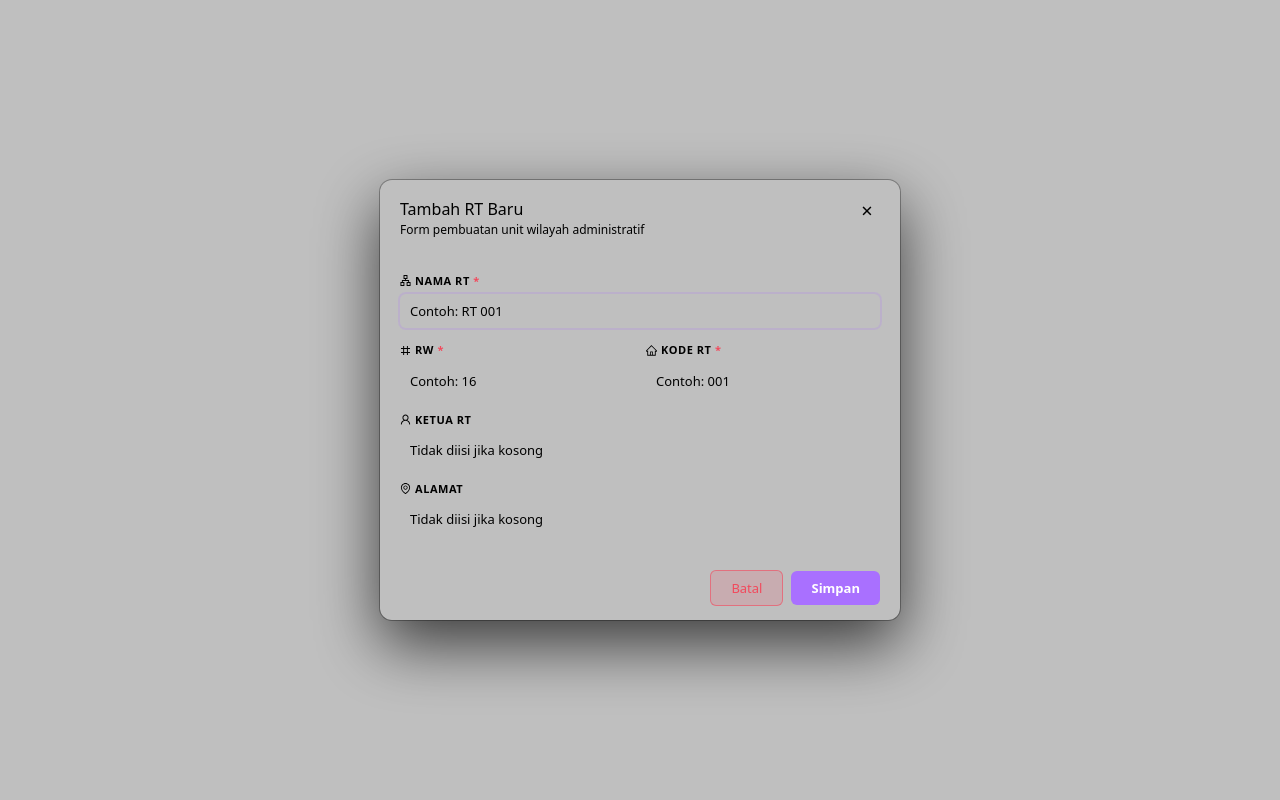
it: W3.3 — RtCreate form rendering › shows error message from API on 409 conflict
Type "RT 001" into the field labelled "Nama RT *". click: (640, 311)
box: [400,294,880,328]
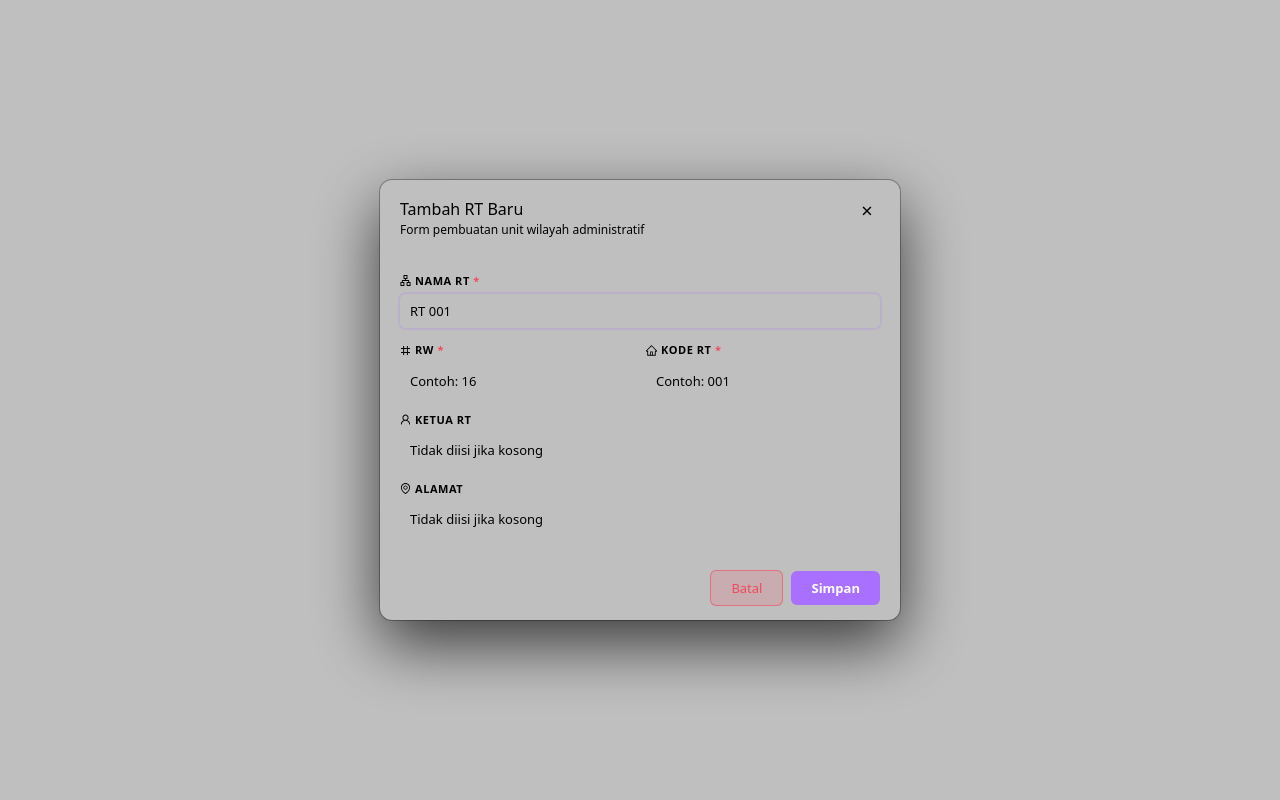
Type "1" into the number field labelled "RW *". click: (517, 381)
box: [400,364,634,398]
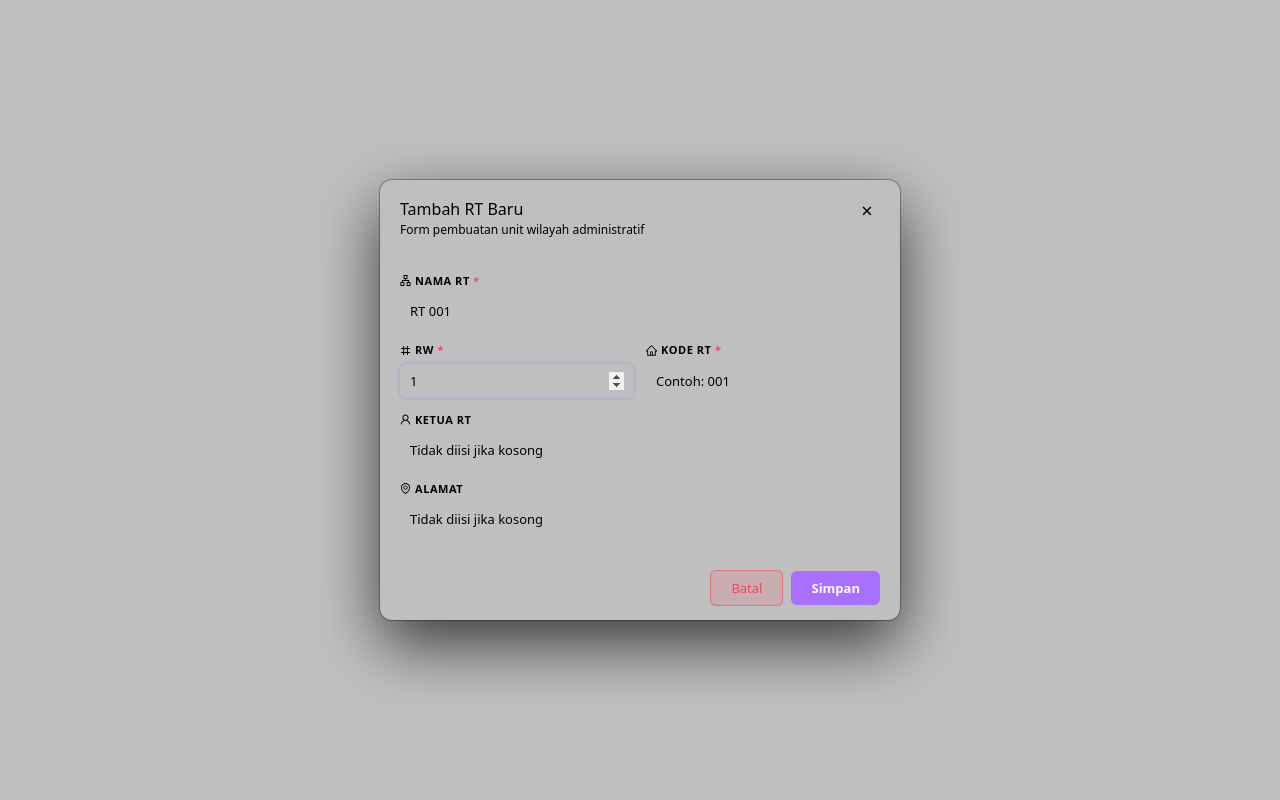
Type "001" into the field labelled "Kode RT *". click: (763, 381)
box: [646,364,880,398]
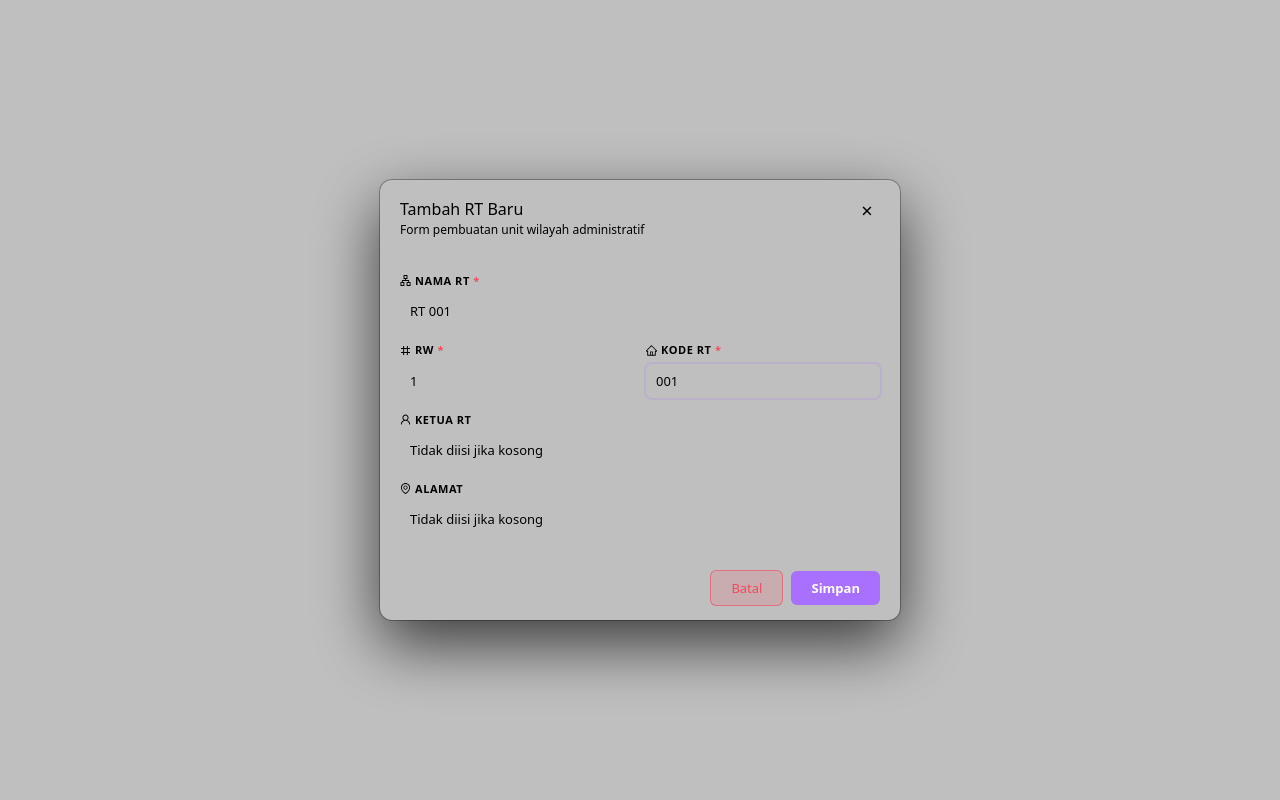
Click the button "Simpan". click: (836, 588)
box: [792,571,880,605]
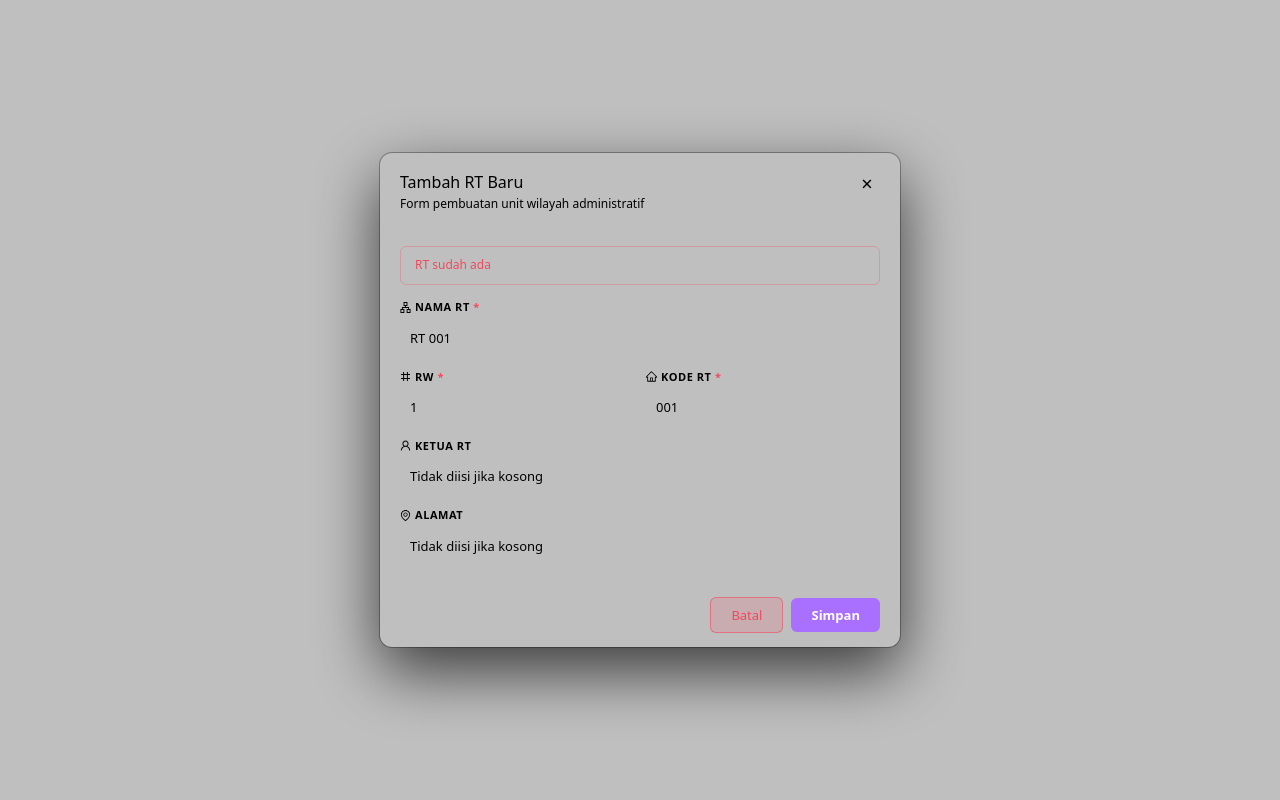
Result: the text "RT sudah ada" is shown at [400,246,880,285]
